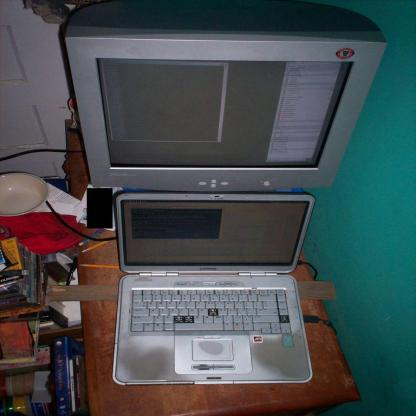board: (112, 194, 316, 384)
